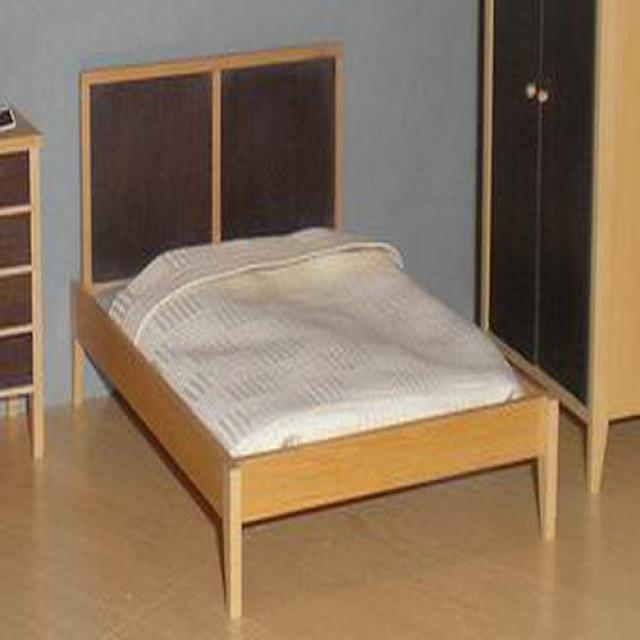bed: (76, 41, 562, 625)
